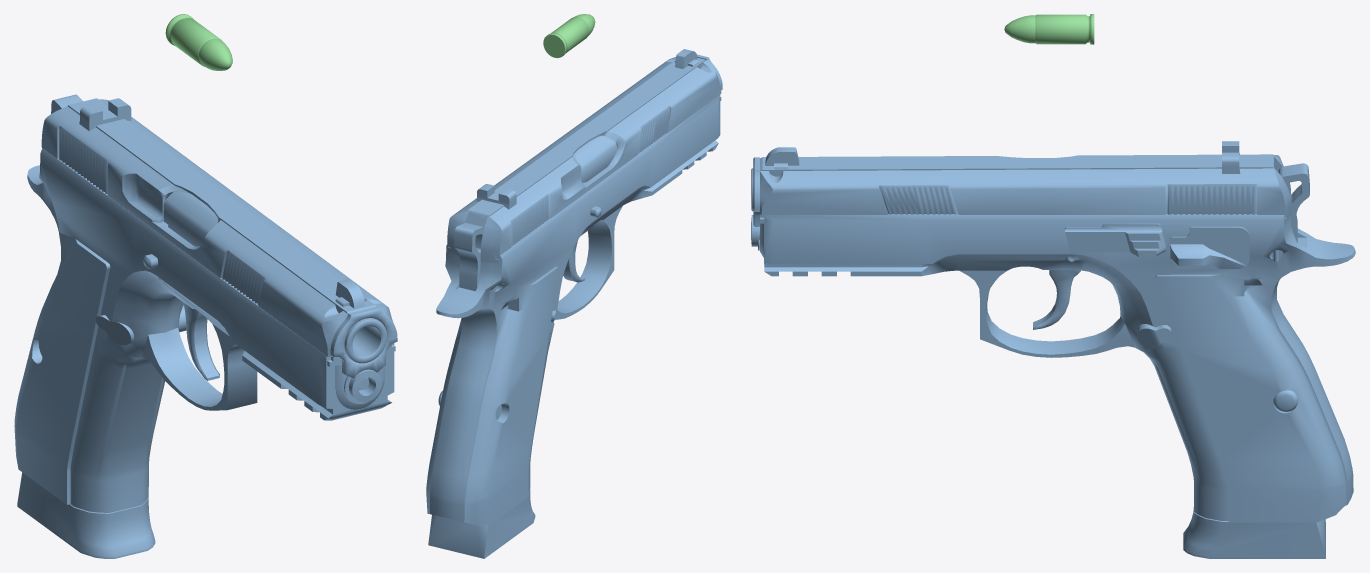
The model's file is WPN_AP85.FBX.
The picture shows the model from 3 angles, left to right: view 1: azimuth 30°, elevation 25°; view 2: azimuth 150°, elevation 25°; view 3: azimuth 270°, elevation 25°; orthographic projection. The views are drawn at different scales.
Parts seen in each view (by area): view 1: WPN_AP85, WPN_AP85_slide, WPN_AP85_magazine, WPN_AP85_barrel, cal_9mm, WPN_AP85_trigger; view 2: WPN_AP85, WPN_AP85_slide, WPN_AP85_magazine, WPN_AP85_hammer, cal_9mm, WPN_AP85_barrel; view 3: WPN_AP85, WPN_AP85_slide, WPN_AP85_magazine, cal_9mm, WPN_AP85_trigger, WPN_AP85_hammer.
Part boxes in pixels (box(x1,y1,x2,y2)): WPN_AP85: box(14, 148, 394, 512); WPN_AP85_slide: box(41, 98, 397, 409); WPN_AP85_magazine: box(17, 332, 155, 558); WPN_AP85_barrel: box(163, 191, 387, 363); cal_9mm: box(165, 14, 232, 70); WPN_AP85_trigger: box(182, 301, 219, 380); WPN_AP85: box(426, 95, 720, 525); WPN_AP85_slide: box(447, 49, 722, 263); WPN_AP85_magazine: box(428, 489, 535, 558); WPN_AP85_hammer: box(454, 223, 484, 291); cal_9mm: box(543, 14, 595, 58); WPN_AP85_barrel: box(575, 135, 616, 182); WPN_AP85: box(764, 214, 1355, 522); WPN_AP85_slide: box(751, 141, 1290, 257); WPN_AP85_magazine: box(1183, 507, 1325, 558); cal_9mm: box(1004, 14, 1094, 44); WPN_AP85_trigger: box(1033, 270, 1080, 329); WPN_AP85_hammer: box(1278, 163, 1309, 242).
Size of the model in its own units: 3.56 by 19.31 by 20.06.
